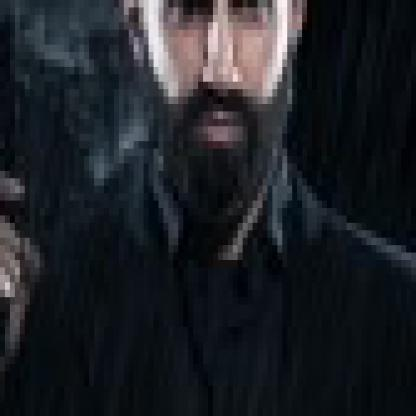gun: (0, 0, 75, 394)
